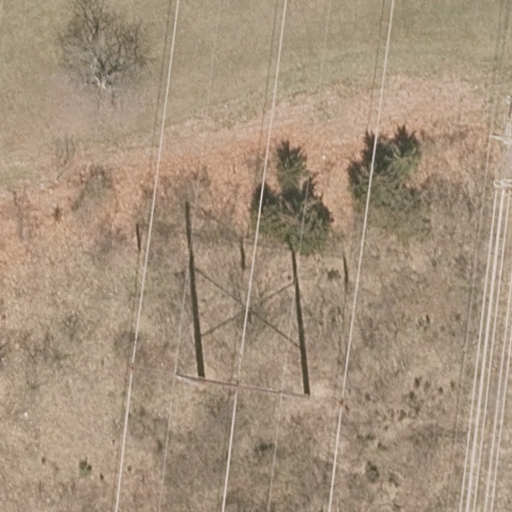TT: (125, 362, 310, 401)
